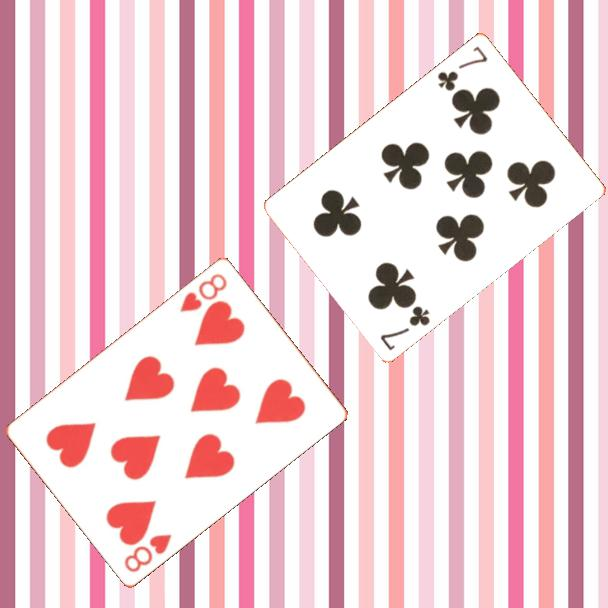c07: (434, 42, 491, 94), (377, 302, 433, 353)
h08: (176, 269, 230, 315), (121, 530, 175, 575)
